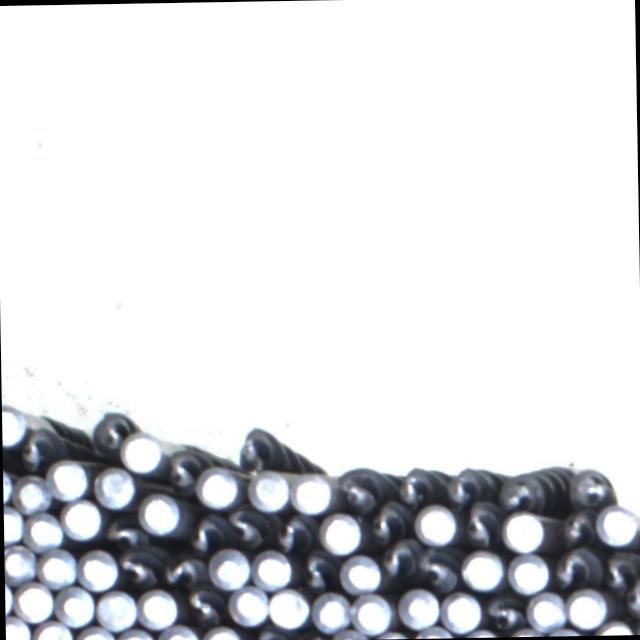tool: (247, 466, 290, 512), (196, 466, 242, 508), (266, 585, 310, 628), (46, 458, 90, 501), (292, 469, 334, 514), (136, 586, 180, 628), (10, 474, 54, 516), (351, 592, 394, 634), (94, 464, 136, 507), (398, 587, 440, 630), (413, 502, 456, 544), (318, 512, 361, 554), (77, 548, 119, 590), (138, 492, 180, 534), (208, 548, 251, 589), (507, 552, 550, 593), (120, 432, 164, 472), (15, 580, 56, 622), (226, 584, 268, 625), (96, 588, 138, 629), (502, 510, 544, 551), (566, 588, 608, 629), (442, 589, 482, 632), (60, 498, 103, 538), (596, 504, 638, 544), (339, 553, 381, 593), (56, 585, 96, 626), (38, 547, 78, 588), (460, 550, 501, 590), (251, 548, 292, 588), (312, 592, 352, 632), (526, 592, 566, 630), (24, 511, 60, 548), (4, 543, 38, 581), (1, 406, 26, 444), (32, 619, 74, 640), (3, 506, 23, 544), (202, 623, 242, 640), (158, 624, 200, 640), (5, 615, 31, 640), (75, 625, 116, 640)
tool_b: (500, 465, 570, 507), (336, 465, 386, 510), (90, 410, 136, 456), (412, 544, 458, 590), (236, 422, 278, 472), (444, 464, 496, 503), (596, 544, 640, 588), (161, 448, 204, 493), (396, 466, 444, 506), (227, 505, 270, 549), (183, 508, 226, 550), (570, 464, 614, 505), (117, 546, 159, 588), (458, 505, 498, 549), (18, 426, 56, 472), (180, 584, 226, 622), (368, 500, 409, 542), (552, 548, 597, 586), (161, 547, 205, 585), (556, 507, 600, 545), (480, 592, 524, 630), (101, 513, 144, 550), (273, 512, 312, 552), (300, 550, 334, 594), (378, 538, 416, 577), (614, 576, 640, 616)
